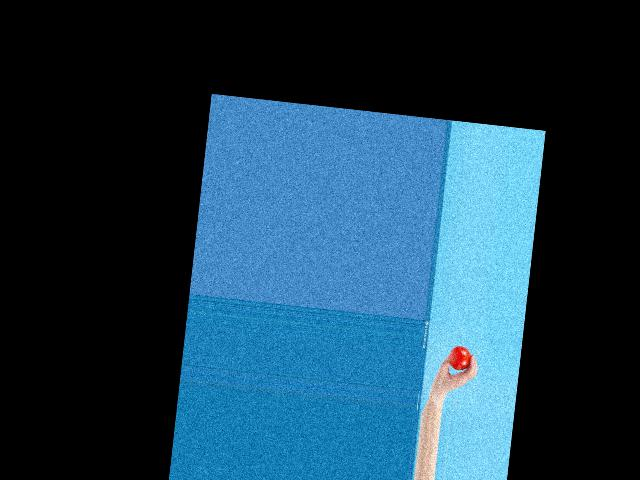tomato: (448, 345, 471, 371)
